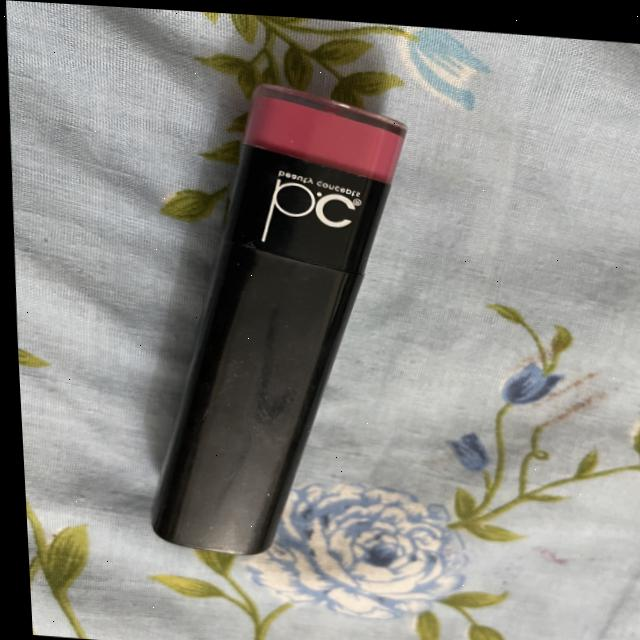lip stick: (95, 55, 487, 577)
